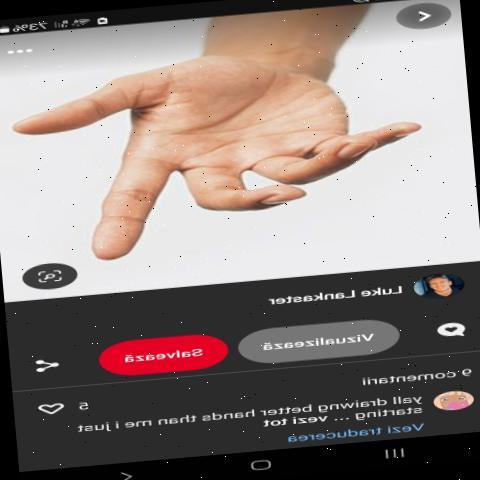Hands: (0, 10, 438, 275)
